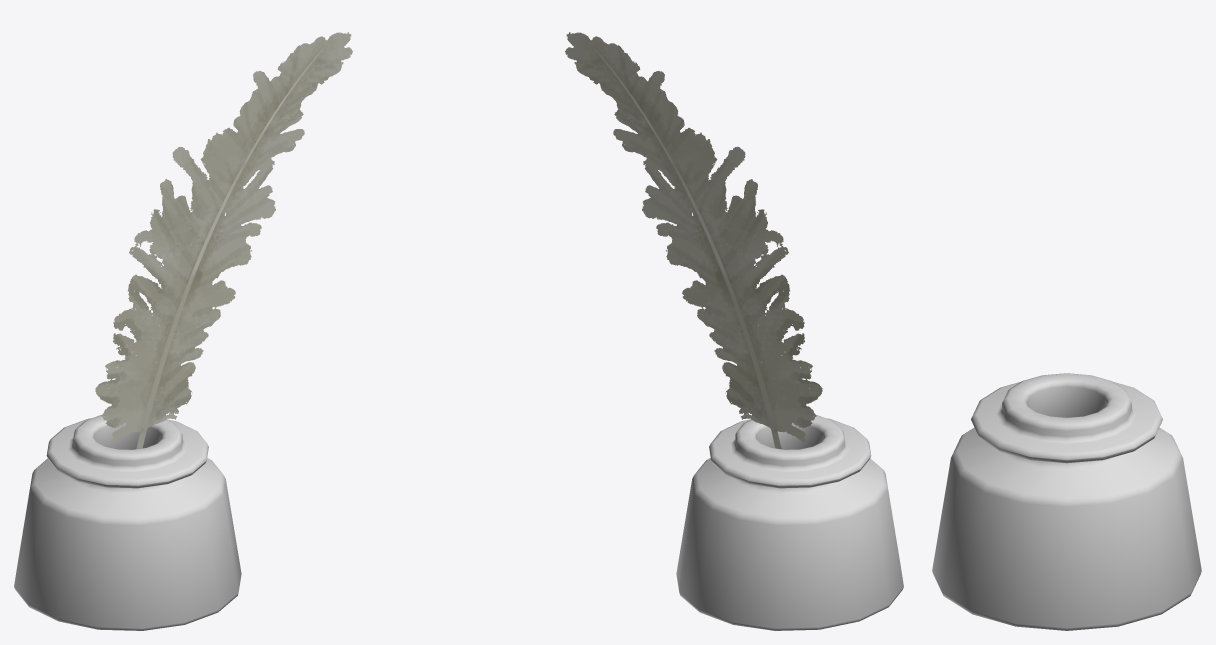
Rendered from InkBottleWithQuill.fbx.
3 views of the same model, side by side, from view 1: azimuth 30°, elevation 25°; view 2: azimuth 150°, elevation 25°; view 3: azimuth 270°, elevation 25° (orthographic). The views are drawn at different scales.
Visible parts, largest first — view 1: Circle, Plane; view 2: Circle, Plane; view 3: Circle.
Boxes of the visible parts, box(x1,y1,x2,y2) form: Circle: box(14, 415, 241, 630); Plane: box(95, 32, 352, 449); Circle: box(676, 415, 903, 630); Plane: box(565, 32, 822, 449); Circle: box(932, 373, 1201, 630).
Size of the model in its own units: 243 by 279 by 112.
Materials: 2 (1 with a texture image).
